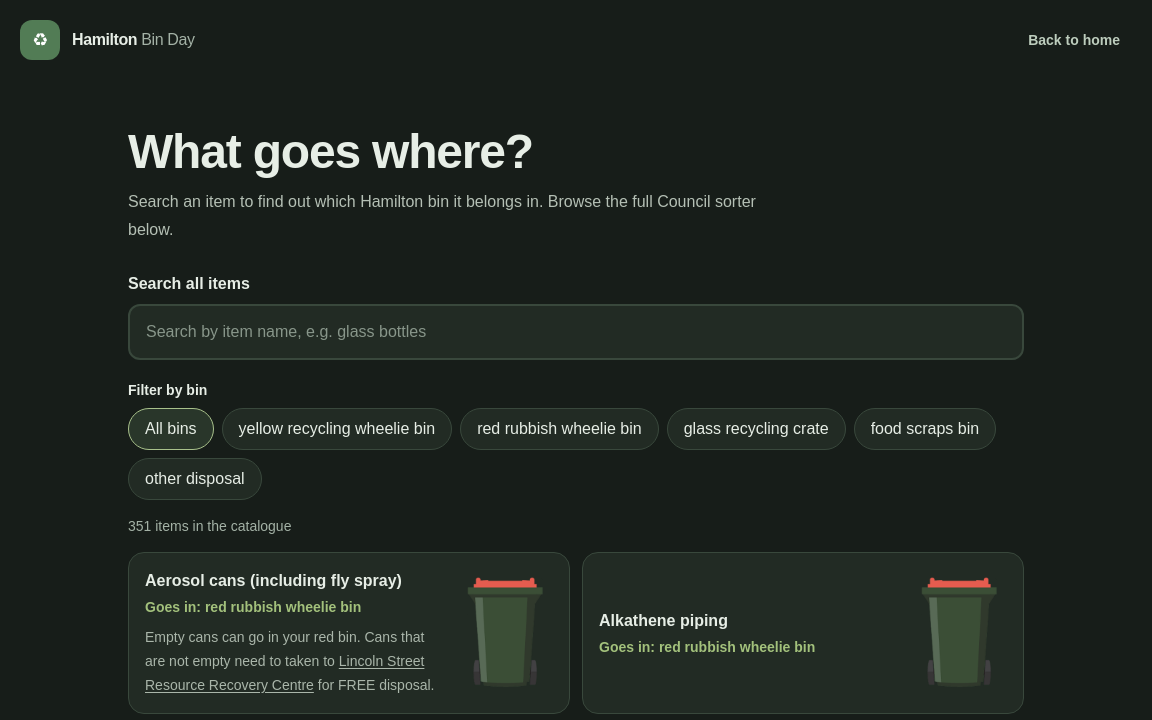
Test case: bin catalogue page › explains when an active bin filter hides search matches
Type "medicine" into the search field labelled "Search all items" at (576, 332), box [128, 304, 1024, 360]
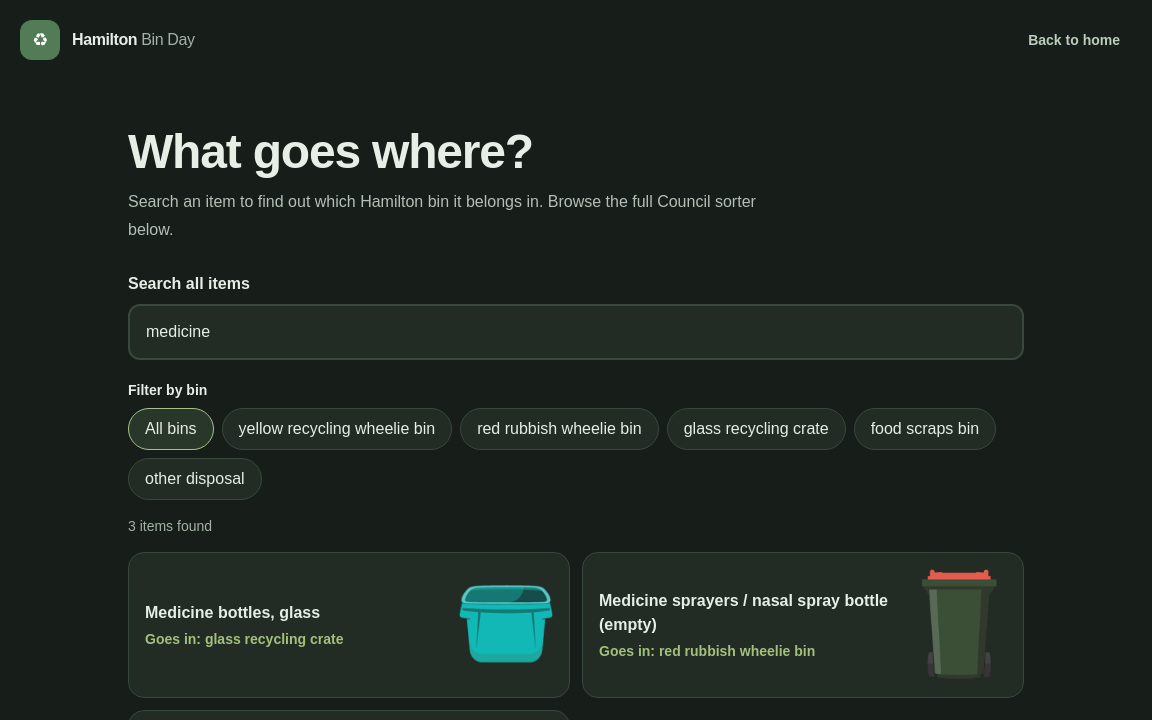
Click the button "food scraps bin" at (925, 429), box [854, 408, 996, 450]
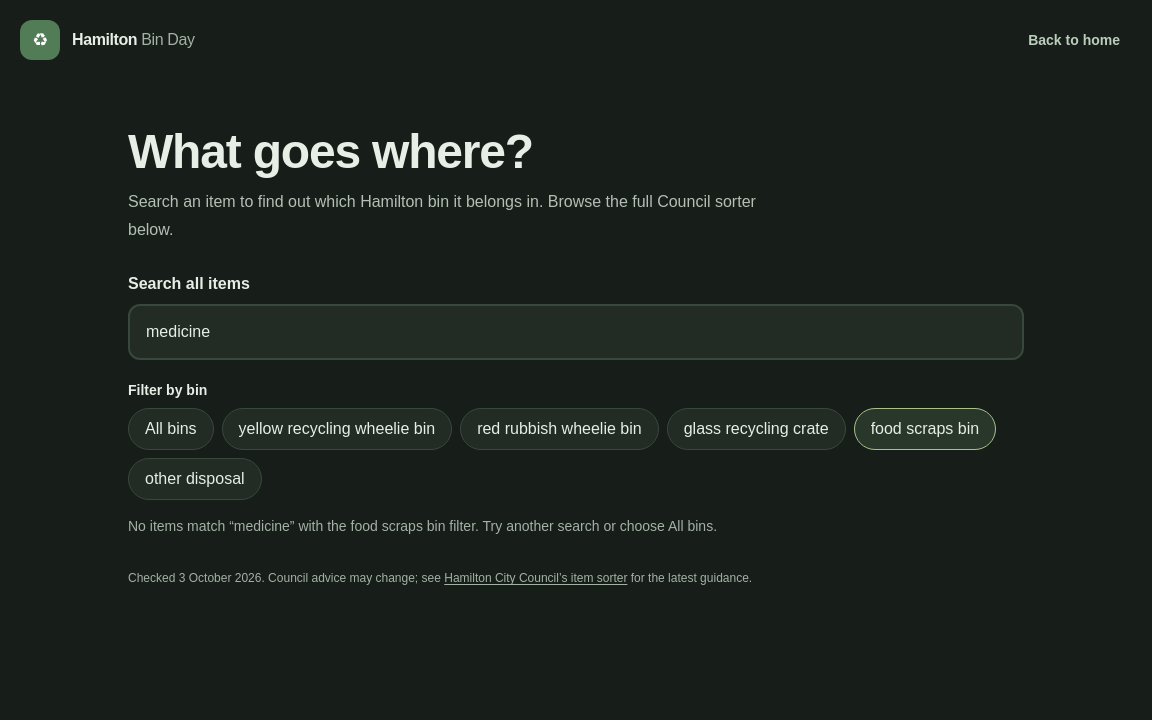
Now the text "No items match “medicine” with the food scraps bin filter. Try another search or choose All bins." is shown, box [128, 518, 717, 534]
